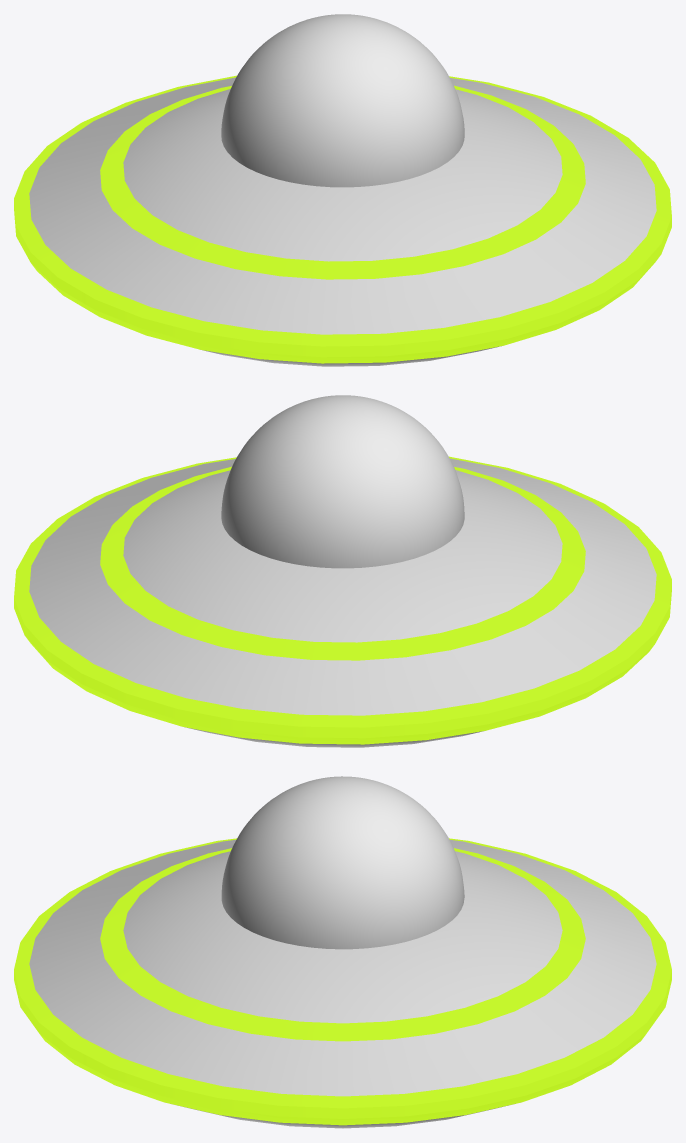
File: extraterrestre.glb
3 views of the same model, one above another, from view 1: azimuth 30°, elevation 25°; view 2: azimuth 150°, elevation 25°; view 3: azimuth 270°, elevation 25° (orthographic).
Visible parts, largest first — view 1: Cercle, Sphère; view 2: Cercle, Sphère; view 3: Cercle, Sphère.
Part boxes in pixels (box(x1,y1,x2,y2)): Cercle: box(14, 75, 671, 366); Sphère: box(221, 14, 464, 187); Cercle: box(14, 456, 671, 747); Sphère: box(221, 395, 464, 568); Cercle: box(14, 838, 671, 1128); Sphère: box(221, 776, 464, 949).
Bounding box in the file's own units: 0.8214 × 0.364 × 0.8214.
